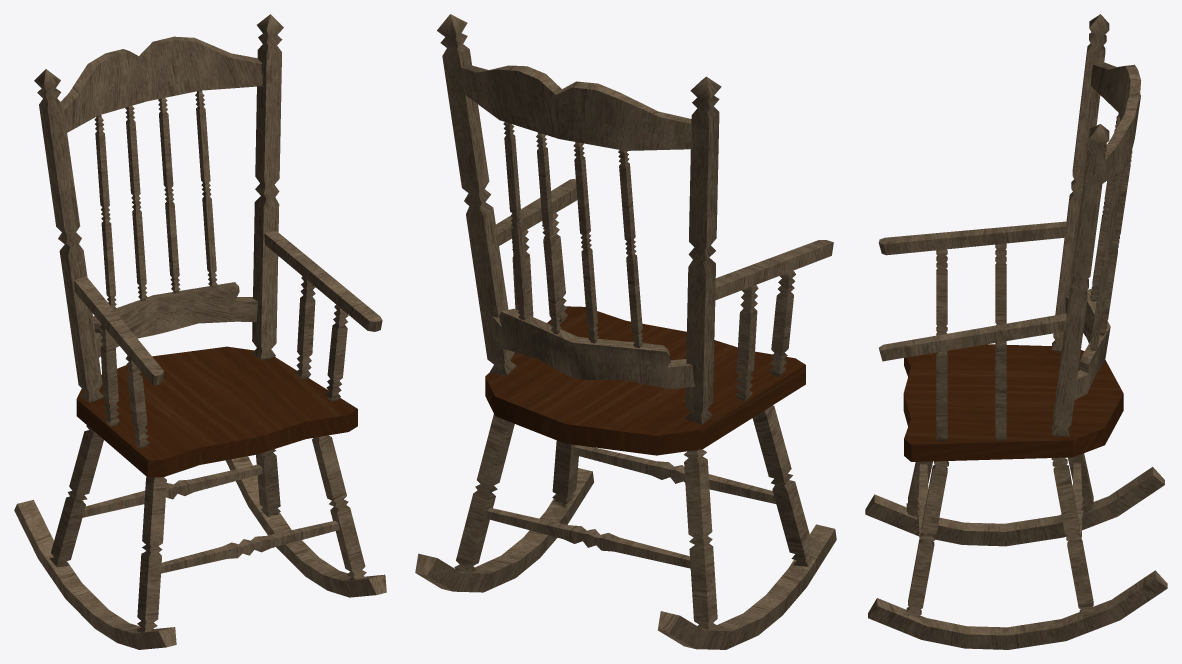
Rendered from rockingchair.glb.
3 renders of one model, left to right at view 1: azimuth 30°, elevation 25°; view 2: azimuth 150°, elevation 25°; view 3: azimuth 270°, elevation 25°, orthographic. The views are drawn at different scales.
Parts seen in each view (by area): view 1: LOD0__2502_lambert2_0; view 2: LOD0__2502_lambert2_0; view 3: LOD0__2502_lambert2_0.
Boxes of the visible parts, x1,y1,x2,y2 form: LOD0__2502_lambert2_0: [14, 14, 386, 649]; LOD0__2502_lambert2_0: [415, 14, 836, 649]; LOD0__2502_lambert2_0: [865, 14, 1167, 649].
Bounding box in the file's own units: 69.51 × 145 × 75.64.
1 material, 1 textured.
